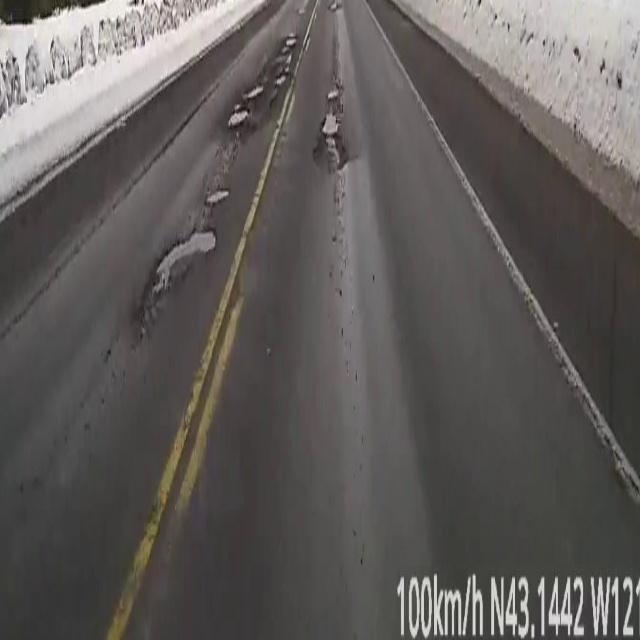pothole: (154, 229, 214, 294), (312, 86, 348, 170), (265, 30, 302, 110), (228, 105, 248, 129), (206, 190, 228, 208), (248, 84, 264, 100)
